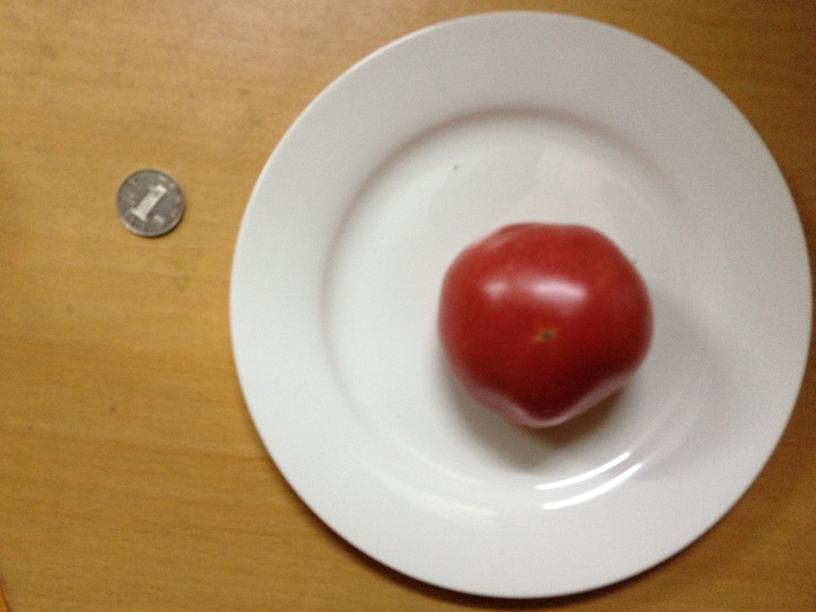coin: (113, 169, 184, 238)
tomato: (431, 222, 652, 428)
